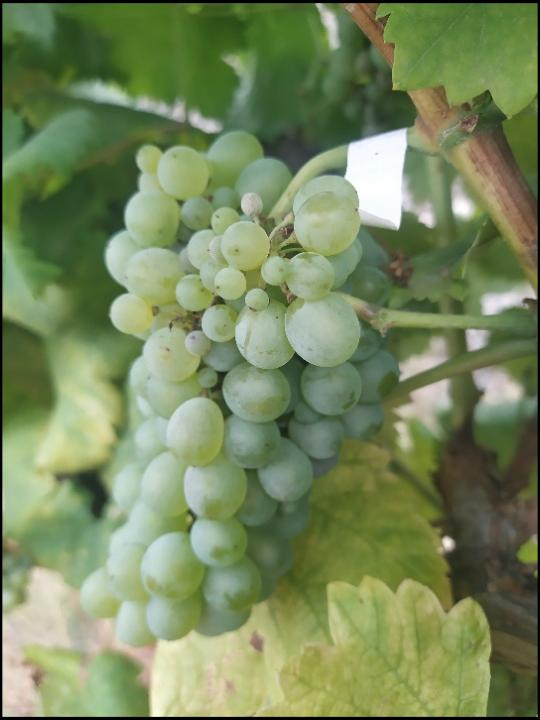grape: (78, 127, 403, 651)
